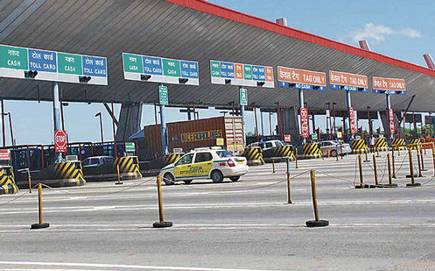toll plaza: (1, 1, 435, 195)
